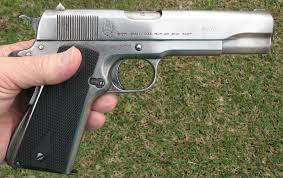Arma Real: (7, 2, 283, 175)
